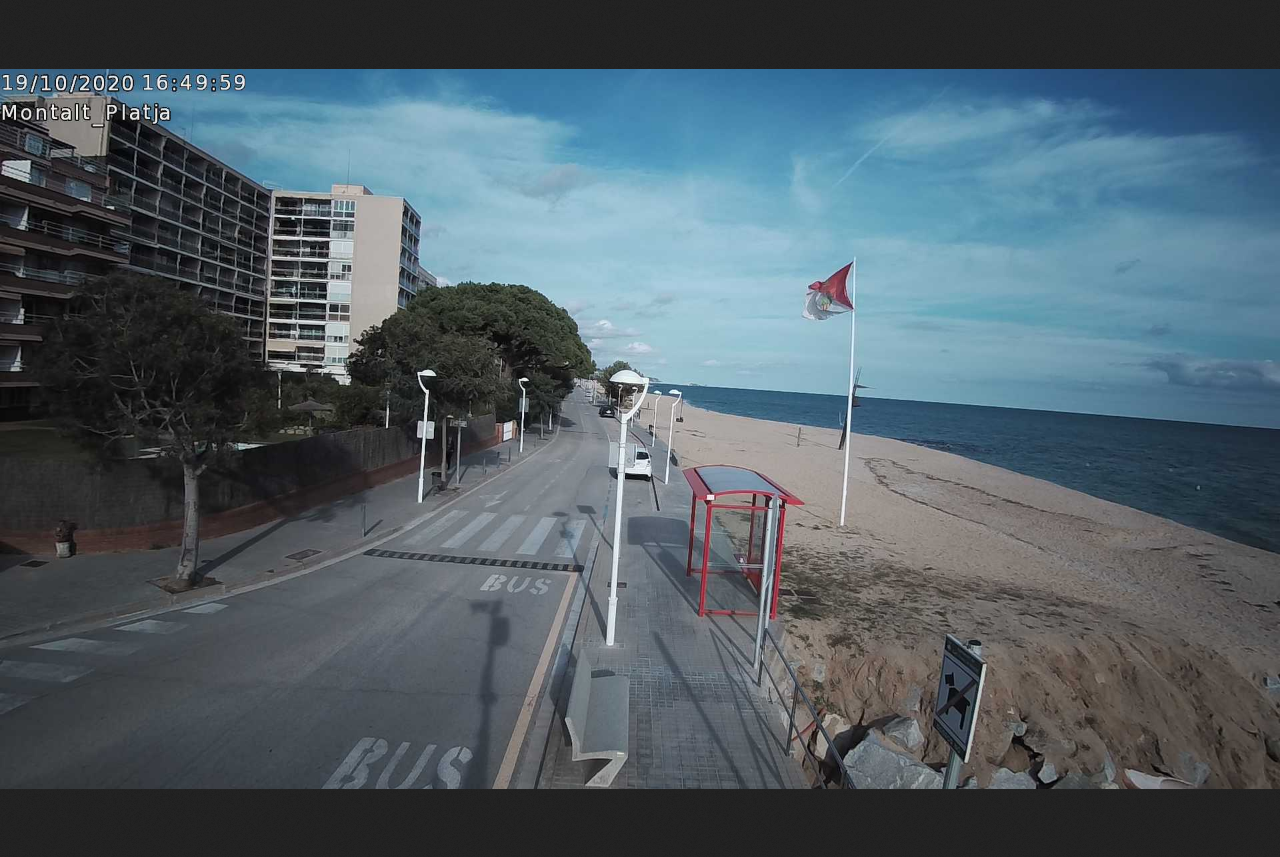yes: (797, 265, 857, 325)
